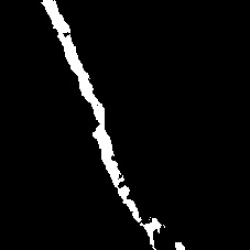crack: (40, 1, 162, 246), (172, 242, 184, 250)
